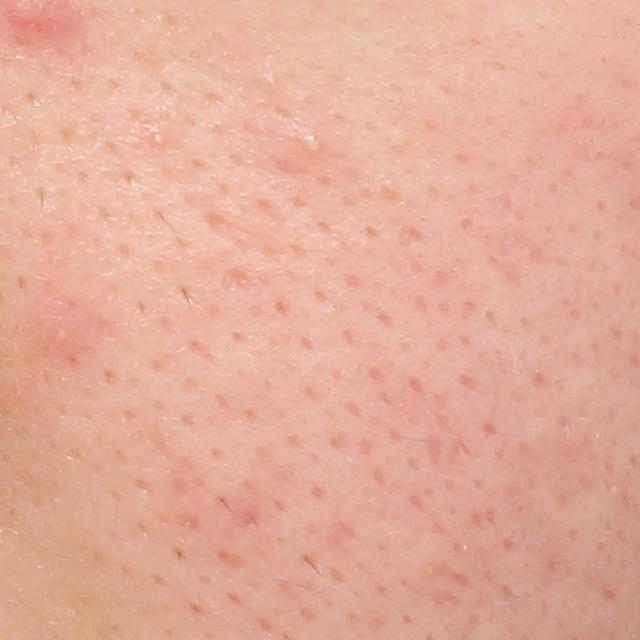atrophic_scar: (203, 211, 298, 260), (215, 266, 255, 300)
pustule: (294, 128, 325, 164)
